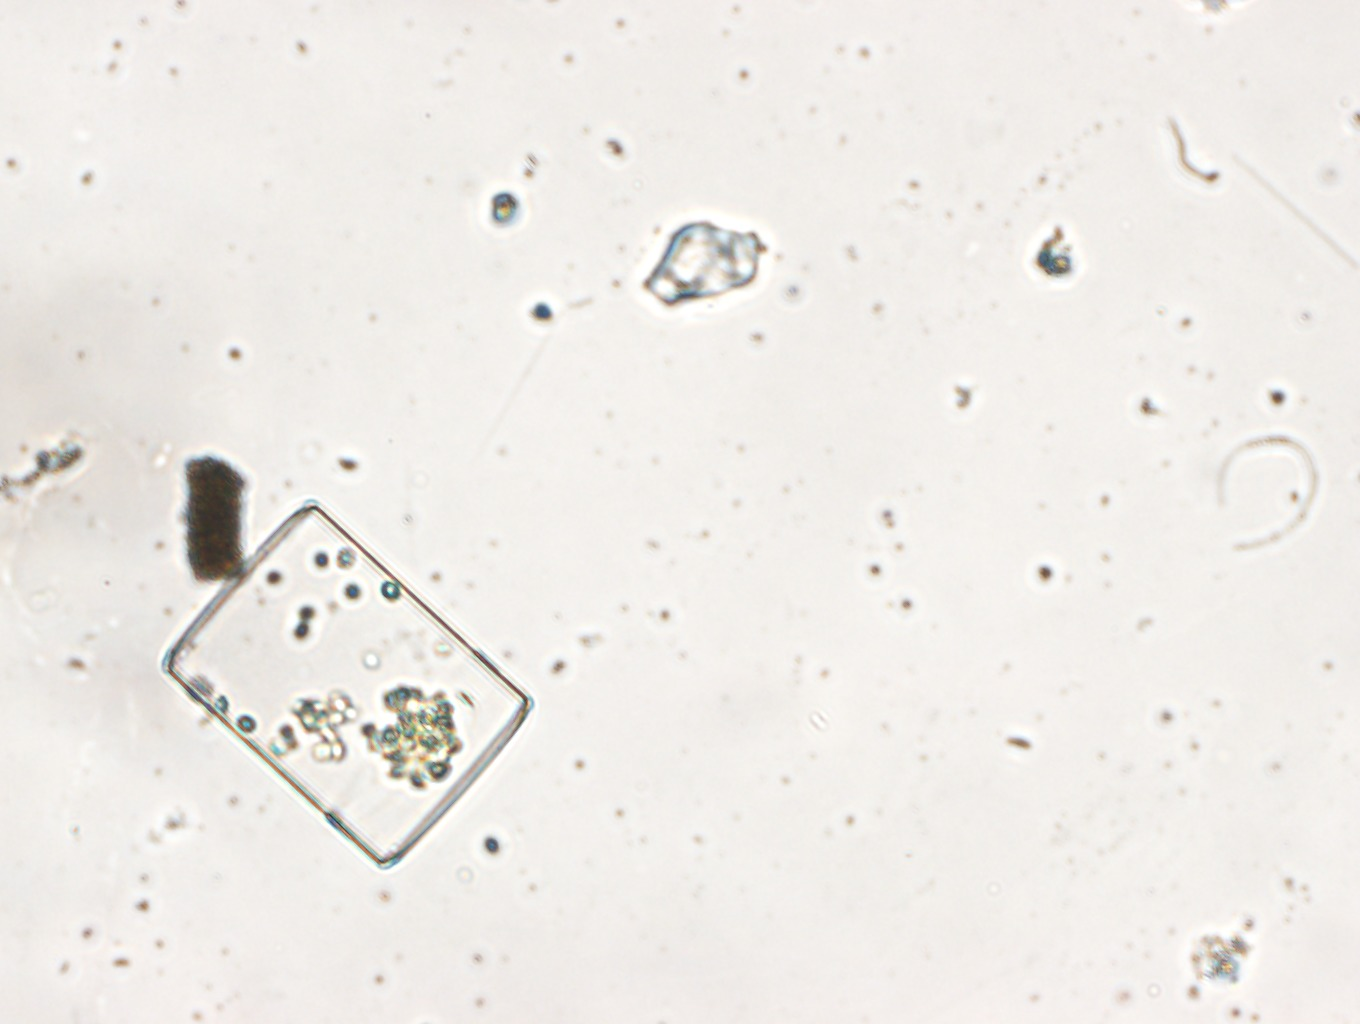guinardia flaccida: (157, 497, 530, 874)
